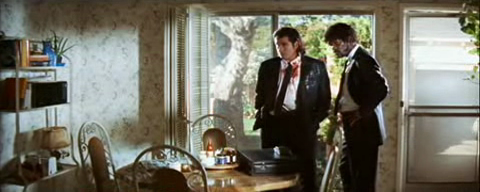face: (274, 39, 293, 60), (328, 39, 345, 58)
mls: (1, 1, 480, 192)
person: (253, 27, 332, 191), (324, 22, 390, 192)
